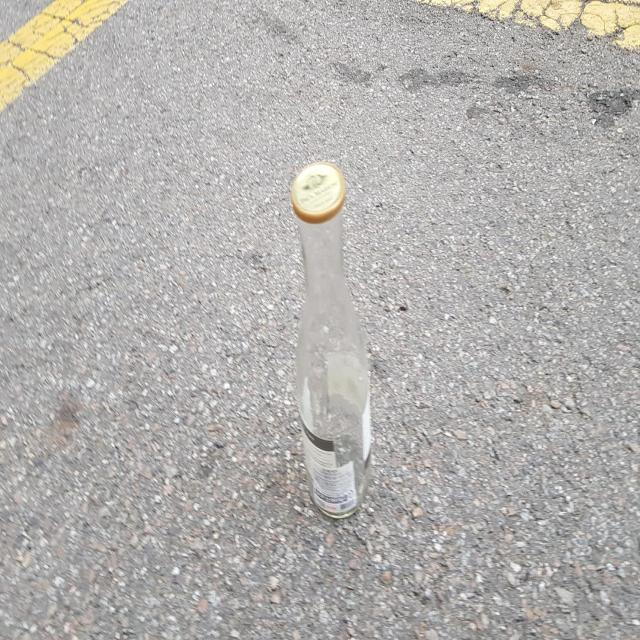glass: (292, 163, 372, 519)
